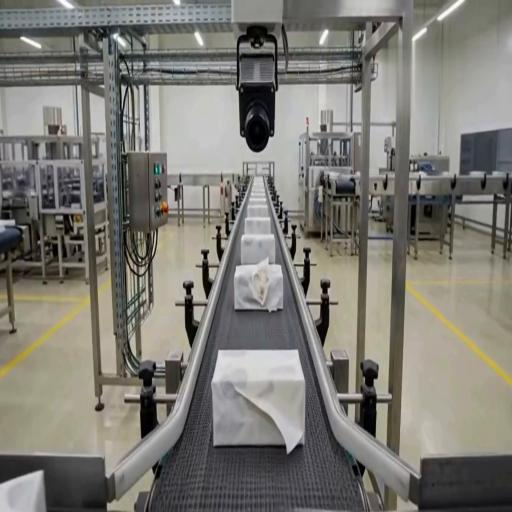defective: (211, 349, 305, 452), (234, 260, 284, 312), (0, 470, 46, 511)
good: (241, 234, 274, 265), (244, 180, 267, 204), (244, 216, 272, 234), (246, 204, 270, 219)
